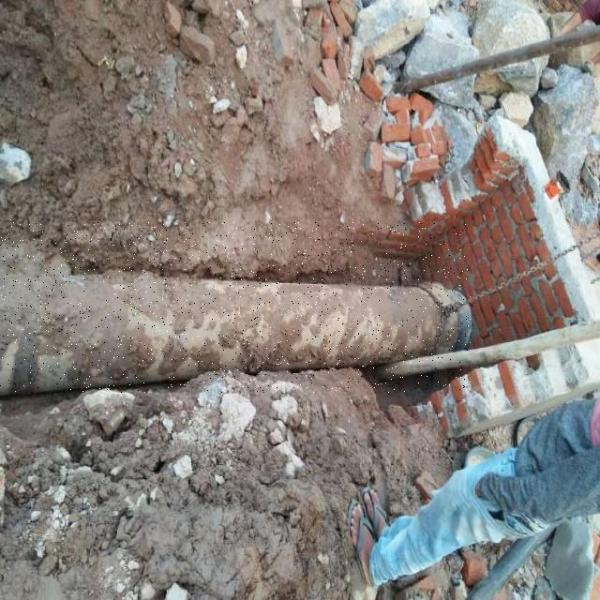no leak: (305, 286, 408, 364)
